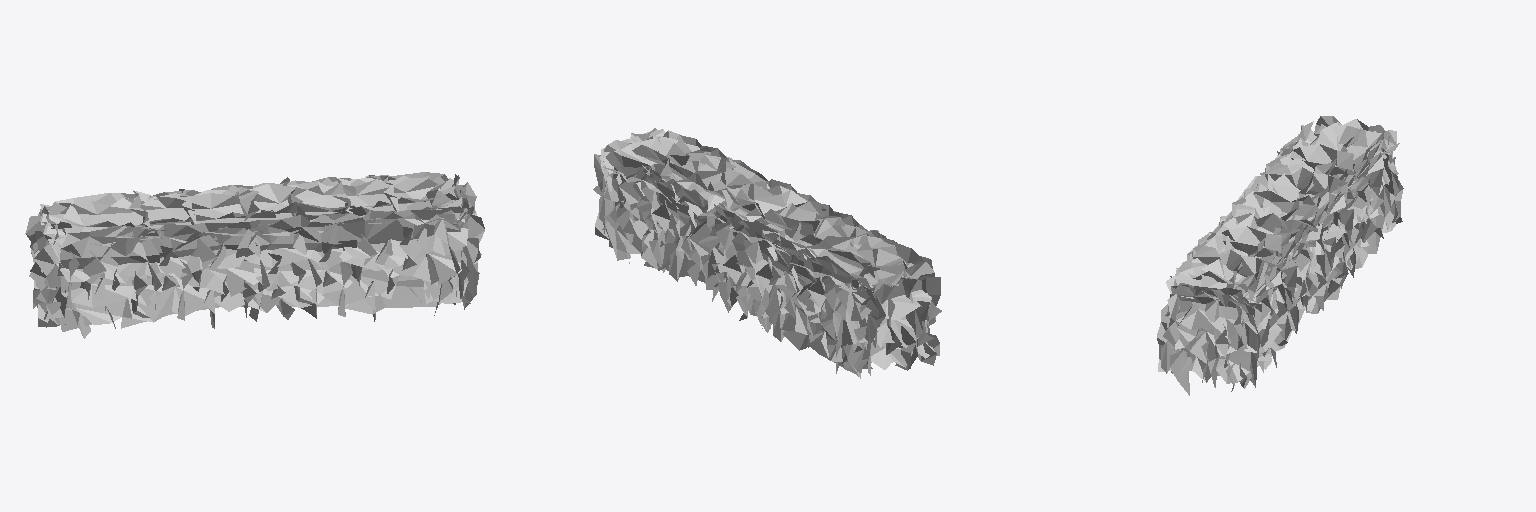
3 renders of one model, left to right at view 1: azimuth 30°, elevation 25°; view 2: azimuth 150°, elevation 25°; view 3: azimuth 270°, elevation 25°, orthographic.
Parts seen in each view (by area): view 1: Bistro_Research_Exterior_bux_hedge_box_long_low14_3975; view 2: Bistro_Research_Exterior_bux_hedge_box_long_low14_3975; view 3: Bistro_Research_Exterior_bux_hedge_box_long_low14_3975.
Boxes of the visible parts, x1,y1,x2,y2 form: Bistro_Research_Exterior_bux_hedge_box_long_low14_3975: [25, 172, 484, 338]; Bistro_Research_Exterior_bux_hedge_box_long_low14_3975: [593, 128, 941, 378]; Bistro_Research_Exterior_bux_hedge_box_long_low14_3975: [1157, 116, 1403, 395].
Size of the model in its own units: 6.48 by 1.95 by 3.51.